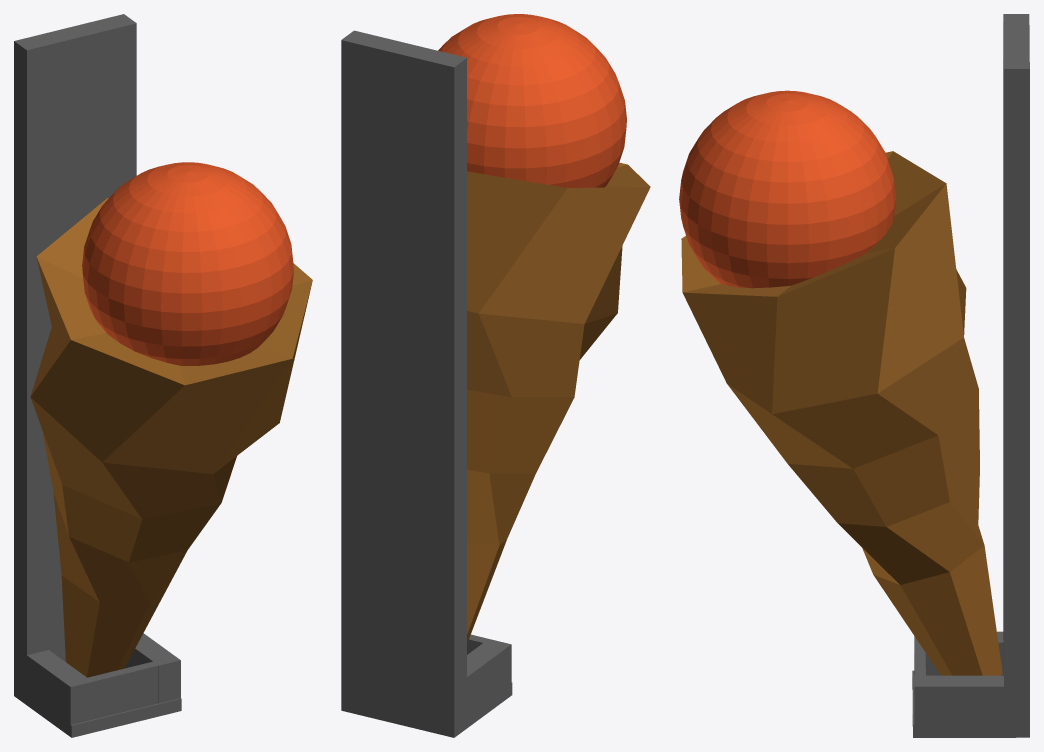
File: TORCH.fbx
The picture shows the model from 3 angles, left to right: view 1: azimuth 30°, elevation 25°; view 2: azimuth 150°, elevation 25°; view 3: azimuth 270°, elevation 25°; orthographic projection. The views are drawn at different scales.
Visible parts, largest first — view 1: Cylinder, Cube, Cylinder.001; view 2: Cube, Cylinder, Cylinder.001; view 3: Cylinder, Cylinder.001, Cube.
Part boxes in pixels (x1,y1,x2,y2): Cylinder: (30,198,312,677); Cube: (14,14,181,737); Cylinder.001: (82,162,293,365); Cube: (341,30,512,737); Cylinder: (467,162,650,643); Cylinder.001: (438,14,626,187); Cylinder: (681,151,1002,675); Cylinder.001: (679,90,895,288); Cube: (912,14,1029,737).
Size of the model in its own units: 22.06 by 56.83 by 27.01.
